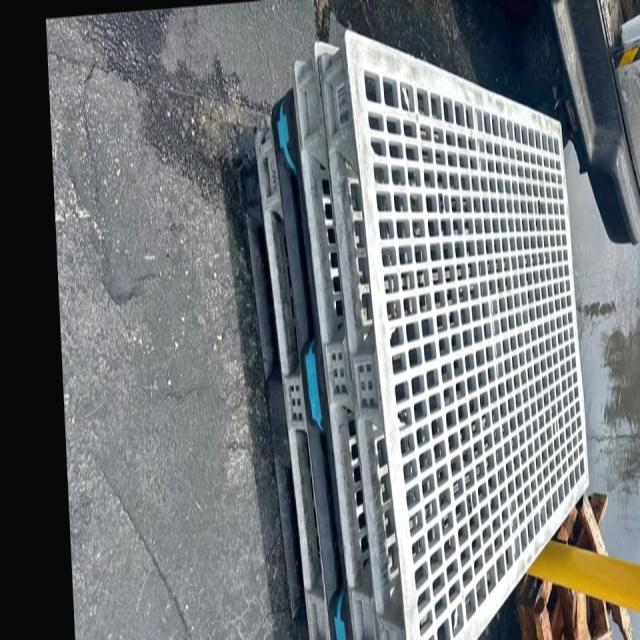non-igps: (304, 17, 594, 640), (281, 32, 386, 640), (265, 77, 357, 640), (248, 105, 336, 640), (230, 142, 315, 640)
